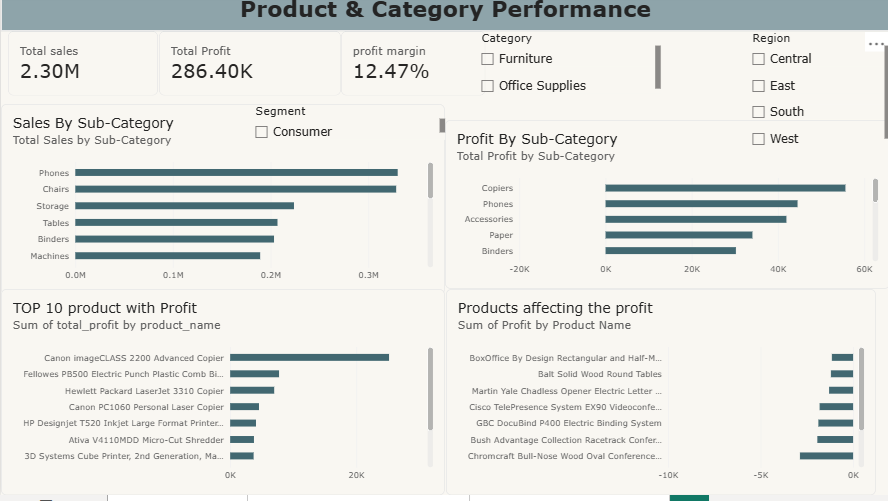

Layout of this report page (visuals, bound fields, positions):
{"tool":"powerbi","page":{"name":"Product &  Category Performance","canvas":[1280,720],"ordinal":1},"visuals":[{"type":"cardVisual","fields":{"Data":["Sum(total_revenue.total_sales)"]},"box":[10.1,51.8,216,93.6],"z":0},{"type":"cardVisual","fields":{"Data":["Sum(total_revenue.total_profit)"]},"box":[227.5,51.8,262.1,93.6],"z":1000},{"type":"cardVisual","fields":{"Data":["cleaned_Superstore.profit margin"]},"box":[489.6,51.8,208.8,93.6],"z":2000},{"type":"clusteredBarChart","title":"Sales By Sub-Category","fields":{"Category":["cleaned_Superstore.Sub-Category"],"Y":["Sum(cleaned_Superstore.Sales)"]},"box":[0,157,639.4,275],"z":3000},{"type":"clusteredBarChart","title":"Profit By Sub-Category","fields":{"Category":["cleaned_Superstore.Sub-Category"],"Y":["Sum(cleaned_Superstore.Profit)"]},"box":[639.4,180,640.8,243.4],"z":4000},{"type":"barChart","title":"TOP 10 product with Profit","fields":{"Category":["top_products_by_profit.product_name"],"Y":["Sum(top_products_by_profit.total_profit)"]},"box":[0,423.4,639.4,296.6],"z":5000},{"type":"barChart","title":"Products affecting the profit","fields":{"Category":["cleaned_Superstore.Product Name"],"Y":["Sum(cleaned_Superstore.Profit)"]},"box":[640.8,423.4,619.2,296.6],"z":6000},{"type":"textbox","box":[0,0,1280.2,51.8],"z":7000},{"type":"slicer","fields":{"Values":["cleaned_Superstore.Region"]},"box":[1074.2,51.8,205.9,167],"z":8000},{"type":"slicer","fields":{"Values":["cleaned_Superstore.Category"]},"box":[684,51.8,266.4,105.1],"z":9000},{"type":"slicer","fields":{"Values":["cleaned_Superstore.Segment"]},"box":[358.6,157,280.8,61.9],"z":9001}]}

Visuals, with their boxes in screenshot pixels (x1, y1, x2, y2), scaled from the page's 1280x720 canvas onto the 888x501 screenshot:
cardVisual - Sum(total_revenue.total_sales): (left=7, top=36, right=157, bottom=101)
cardVisual - Sum(total_revenue.total_profit): (left=158, top=36, right=340, bottom=101)
cardVisual - cleaned_Superstore.profit margin: (left=340, top=36, right=485, bottom=101)
"Sales By Sub-Category" clusteredBarChart: (left=0, top=109, right=444, bottom=301)
"Profit By Sub-Category" clusteredBarChart: (left=444, top=125, right=887, bottom=295)
"TOP 10 product with Profit" barChart: (left=0, top=295, right=444, bottom=500)
"Products affecting the profit" barChart: (left=445, top=295, right=874, bottom=500)
textbox: (left=0, top=0, right=887, bottom=36)
slicer - cleaned_Superstore.Region: (left=745, top=36, right=887, bottom=152)
slicer - cleaned_Superstore.Category: (left=475, top=36, right=659, bottom=109)
slicer - cleaned_Superstore.Segment: (left=249, top=109, right=444, bottom=152)
